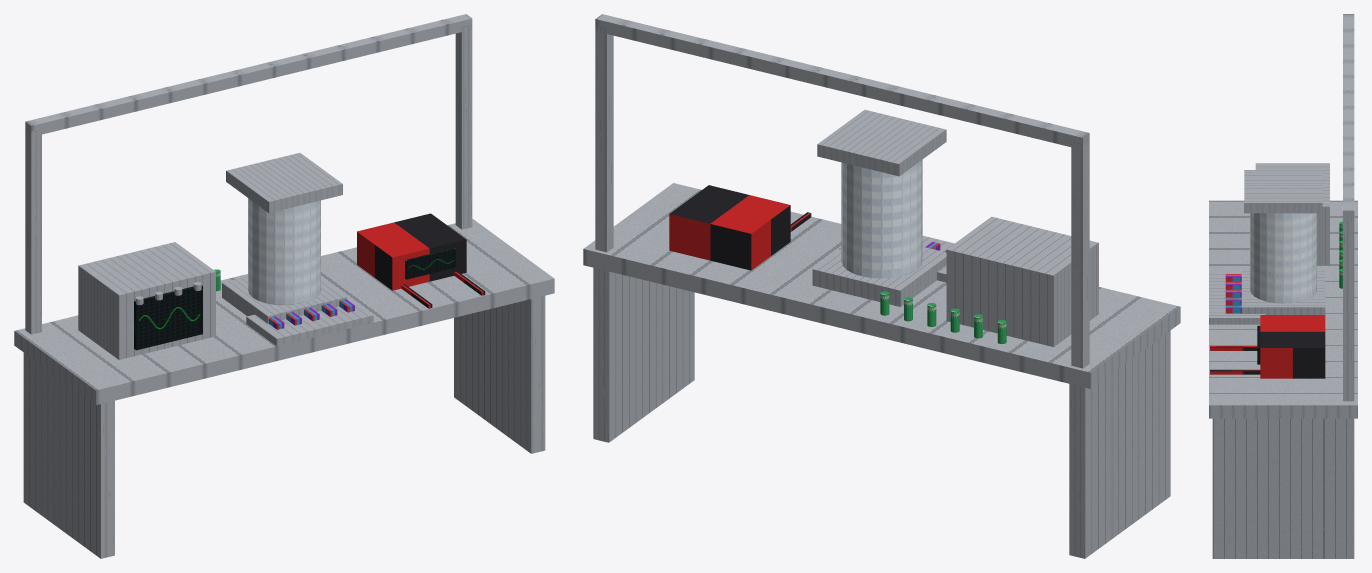
Rendered from prop_vape_testing_rig.glb.
3 renders of one model, left to right at view 1: azimuth 30°, elevation 25°; view 2: azimuth 150°, elevation 25°; view 3: azimuth 270°, elevation 25°, orthographic. The views are drawn at different scales.
Parts seen in each view (by area): view 1: Prop_Vape_Testing_Rig; view 2: Prop_Vape_Testing_Rig; view 3: Prop_Vape_Testing_Rig.
Boxes of the visible parts, x1=… form: Prop_Vape_Testing_Rig: x1=14, y1=14, x2=554, y2=558; Prop_Vape_Testing_Rig: x1=583, y1=14, x2=1180, y2=558; Prop_Vape_Testing_Rig: x1=1209, y1=14, x2=1357, y2=558.
Size of the model in its own units: 2.6 by 2.06 by 0.8.
Materials: 1 (1 with a texture image).
